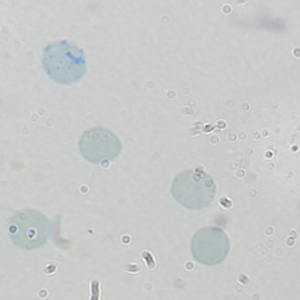aggregate reticulocyte: (40, 39, 89, 87)
erythrocyte: (6, 208, 52, 252)
punctate reticulocyte: (168, 167, 219, 212), (77, 125, 124, 166), (189, 225, 231, 267)
